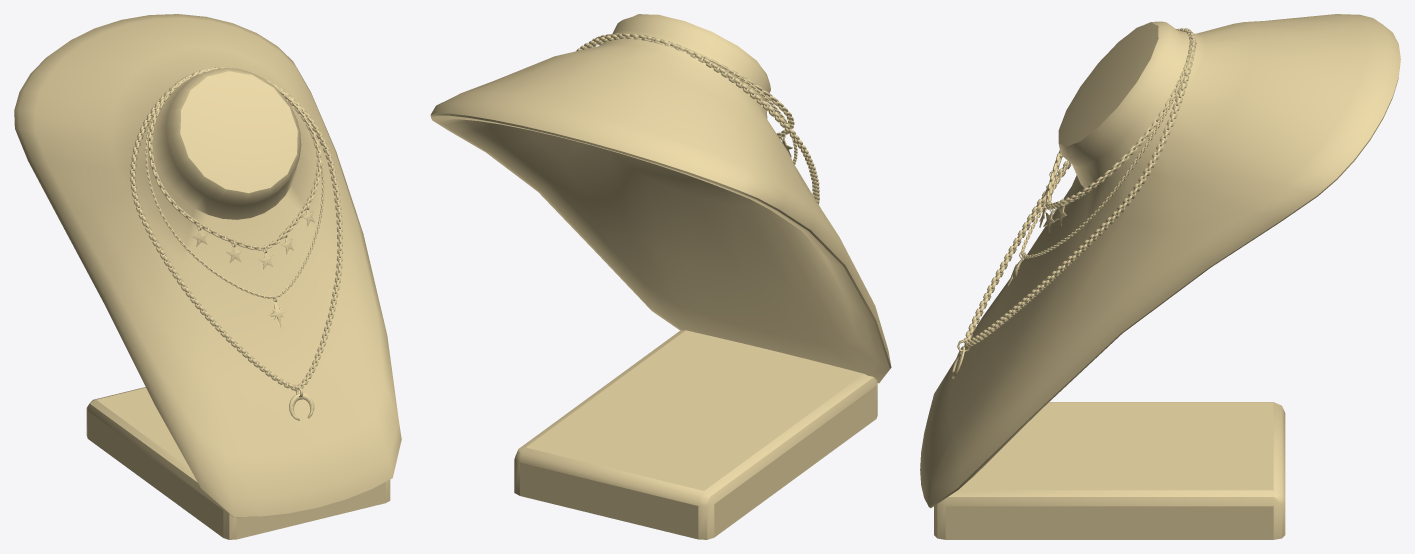
File: Necklace_19.fbx
The picture shows the model from 3 angles, left to right: view 1: azimuth 30°, elevation 25°; view 2: azimuth 150°, elevation 25°; view 3: azimuth 270°, elevation 25°; orthographic projection. The views are drawn at different scales.
Visible parts, largest first — view 1: SM_Stand_Necklace_19, SM_Chains; view 2: SM_Stand_Necklace_19, SM_Chains; view 3: SM_Stand_Necklace_19, SM_Chains.
Boxes of the visible parts, <box> form: SM_Stand_Necklace_19: <box>14,14,401,539</box>; SM_Chains: <box>130,67,342,420</box>; SM_Stand_Necklace_19: <box>430,14,891,539</box>; SM_Chains: <box>576,33,819,204</box>; SM_Stand_Necklace_19: <box>920,14,1400,539</box>; SM_Chains: <box>952,28,1196,378</box>.
Bounding box in the file's own units: 22.51 × 29.29 × 27.78.
